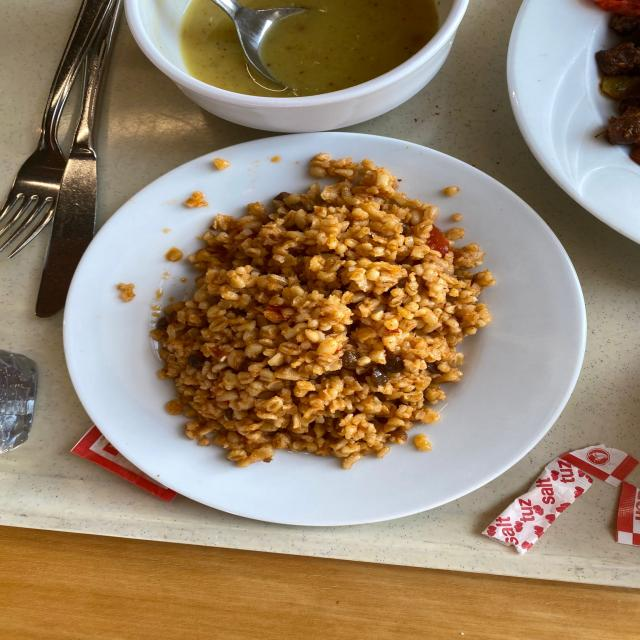ana_yemek: (68, 147, 575, 500)
